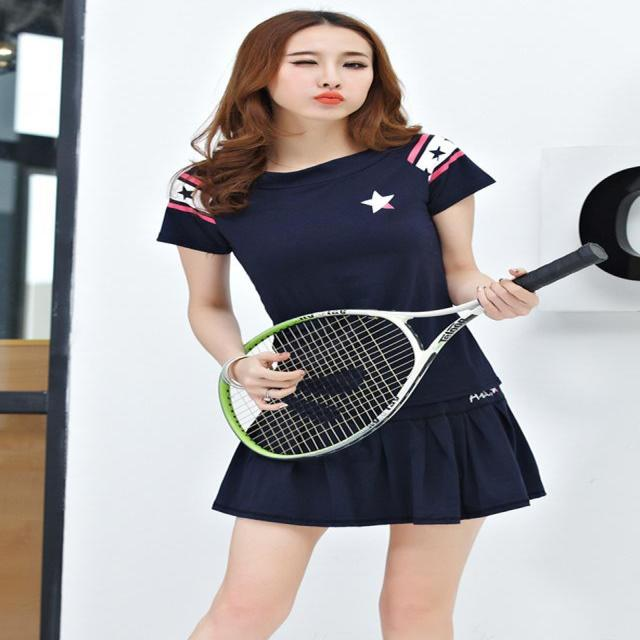short sleeve top: (156, 130, 501, 407)
skirt: (213, 366, 548, 524)
